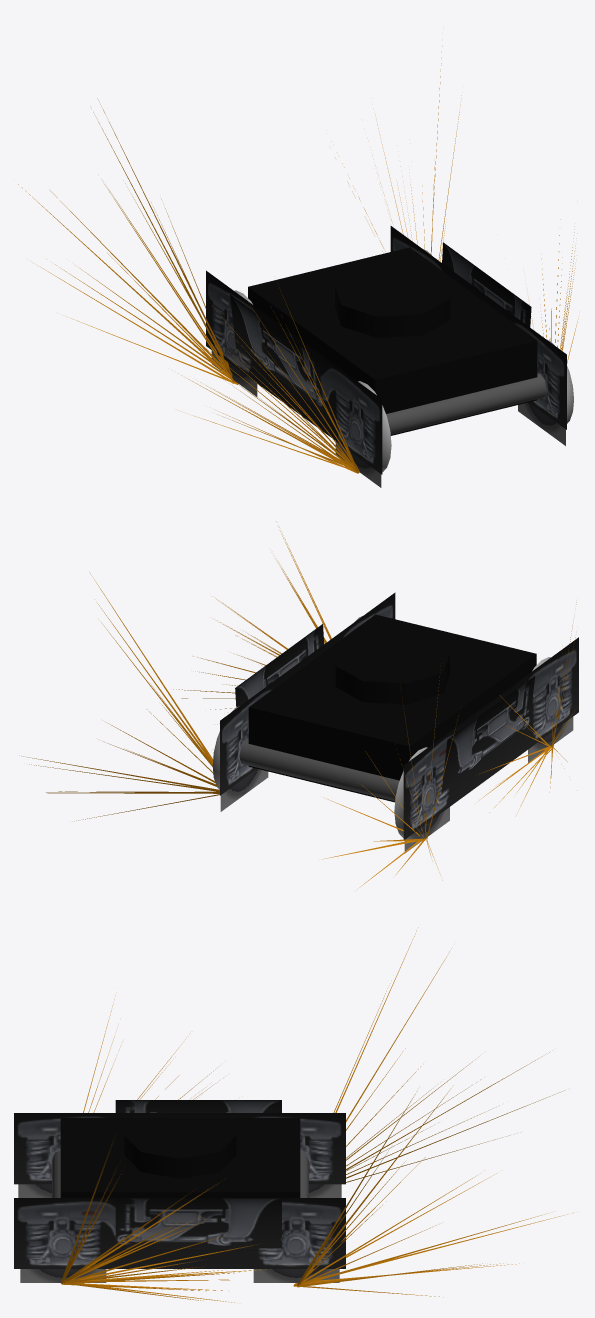
Rendered from K2100_TRACK.glb.
3 views of the same model, one above another, from view 1: azimuth 30°, elevation 25°; view 2: azimuth 150°, elevation 25°; view 3: azimuth 270°, elevation 25° (orthographic). The views are drawn at different scales.
Visible parts, largest first — view 1: trackbase, Fire1_R_1, Fire0_R_0; view 2: trackbase, Fire1_L_0, Fire1_R_1, Fire0_R_0, Fire0_L_1, Fire0_L_0; view 3: trackbase, Fire1_L_1, Fire0_L_0, Fire0_L_1, Fire1_R_0.
Boxes of the visible parts, box(x1,y1,x2,y2) form: trackbase: box(206, 226, 573, 487); Fire1_R_1: box(18, 102, 238, 384); Fire0_R_0: box(178, 287, 359, 473); trackbase: box(212, 592, 578, 853); Fire1_L_0: box(28, 584, 219, 820); Fire1_R_1: box(321, 677, 439, 886); Fire0_R_0: box(479, 697, 558, 814); Fire0_L_1: box(176, 522, 331, 709); Fire0_L_0: box(173, 521, 330, 698); trackbase: box(14, 1100, 345, 1282); Fire1_L_1: box(293, 1090, 564, 1297); Fire0_L_0: box(61, 1141, 266, 1302); Fire0_L_1: box(61, 1144, 265, 1301); Fire1_R_0: box(333, 936, 564, 1182).
Bounding box in the file's own units: 10.41 × 6.14 × 13.16.
14 materials, 5 textured.
